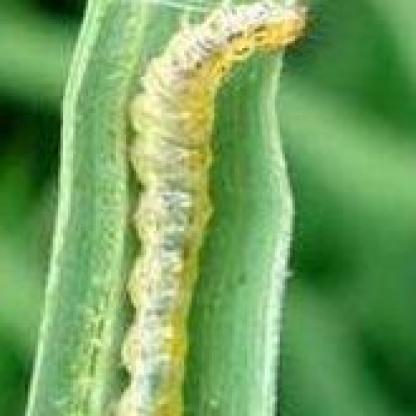leaf-folder: (88, 2, 361, 416)
